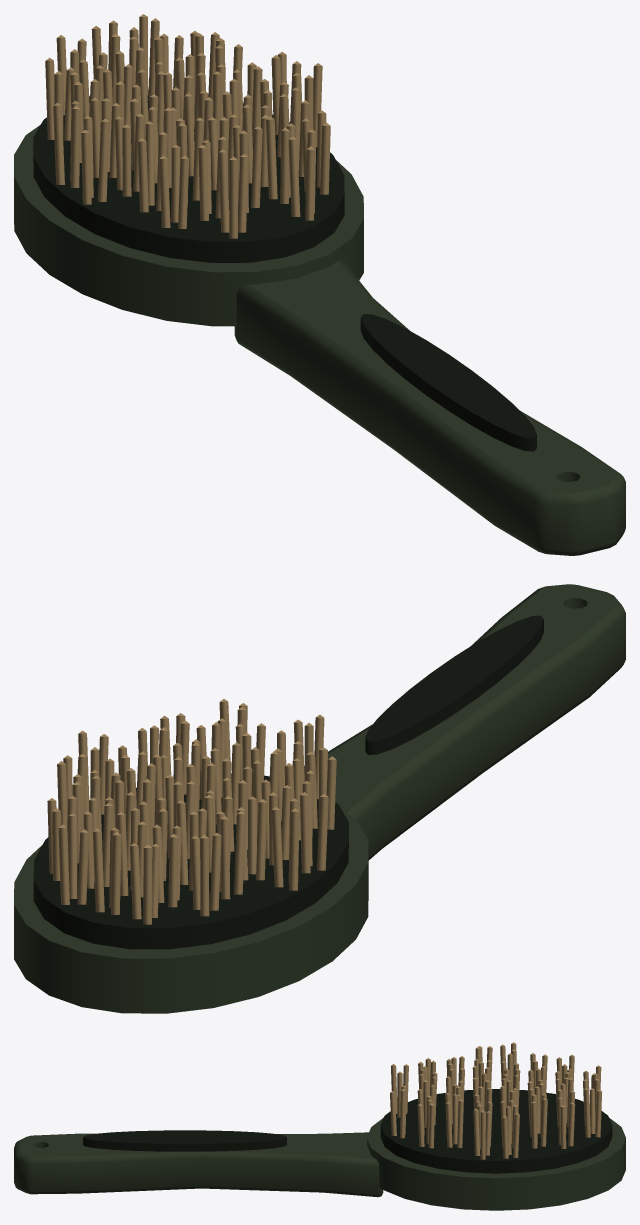
Rendered from hairbrush.glb.
The picture shows the model from 3 angles, top to bottom: view 1: azimuth 30°, elevation 25°; view 2: azimuth 150°, elevation 25°; view 3: azimuth 270°, elevation 25°; orthographic projection. The views are drawn at different scales.
Visible parts, largest first — view 1: Handle, Head, BristlePad, GripInsert, BristleTuft_00_1, BristleTuft_05_0, BristleTuft_12_0, BristleTuft_19_1, BristleTuft_19_0, BristleTuft_04_2, BristleTuft_01_1, BristleTuft_00_2; view 2: Handle, Head, BristlePad, GripInsert, BristleTuft_38_0, BristleTuft_37_1, BristleTuft_26_2, BristleTuft_19_0, BristleTuft_37_2, BristleTuft_36_2, BristleTuft_26_1, BristleTuft_12_1 (+17 smaller); view 3: Handle, Head, BristlePad, GripInsert, BristleTuft_38_0, BristleTuft_18_2, BristleTuft_01_0, BristleTuft_11_1, BristleTuft_30_0, BristleTuft_38_1, BristleTuft_18_1, BristleTuft_30_2 (+7 smaller).
Boxes of the visible parts, left/top/right/bottom form: Handle: left=234, top=260, right=625, bottom=555; Head: left=14, top=125, right=363, bottom=326; BristlePad: left=33, top=90, right=344, bottom=262; GripInsert: left=360, top=314, right=536, bottom=451; BristleTuft_00_1: left=218, top=149, right=229, bottom=232; BristleTuft_05_0: left=266, top=116, right=277, bottom=199; BristleTuft_12_0: left=98, top=118, right=109, bottom=201; BristleTuft_19_1: left=70, top=106, right=80, bottom=187; BristleTuft_19_0: left=53, top=102, right=64, bottom=184; BristleTuft_04_2: left=251, top=126, right=262, bottom=207; BristleTuft_01_1: left=288, top=136, right=300, bottom=216; BristleTuft_00_2: left=229, top=156, right=237, bottom=238; Handle: left=304, top=584, right=625, bottom=860; Head: left=14, top=809, right=368, bottom=1013; BristlePad: left=33, top=774, right=348, bottom=949; GripInsert: left=365, top=615, right=543, bottom=755; BristleTuft_38_0: left=68, top=813, right=77, bottom=898; BristleTuft_37_1: left=93, top=828, right=104, bottom=912; BristleTuft_26_2: left=234, top=811, right=245, bottom=894; BristleTuft_19_0: left=289, top=808, right=299, bottom=890; BristleTuft_37_2: left=111, top=832, right=121, bottom=914; BristleTuft_36_2: left=143, top=844, right=152, bottom=924; BristleTuft_26_1: left=220, top=816, right=230, bottom=899; BristleTuft_12_1: left=300, top=792, right=310, bottom=873; Handle: left=14, top=1132, right=383, bottom=1197; Head: left=367, top=1117, right=625, bottom=1210; BristlePad: left=380, top=1089, right=612, bottom=1173; GripInsert: left=83, top=1130, right=286, bottom=1151; BristleTuft_38_0: left=584, top=1088, right=590, bottom=1137; BristleTuft_18_2: left=480, top=1110, right=485, bottom=1159; BristleTuft_01_0: left=400, top=1089, right=405, bottom=1138; BristleTuft_11_1: left=457, top=1099, right=463, bottom=1147; BristleTuft_30_0: left=540, top=1098, right=547, bottom=1146; BristleTuft_38_1: left=595, top=1089, right=601, bottom=1137; BristleTuft_18_1: left=473, top=1108, right=480, bottom=1155; BristleTuft_30_2: left=531, top=1101, right=537, bottom=1148.
Size of the model in its own units: 0.07 by 0.0423 by 0.222.
